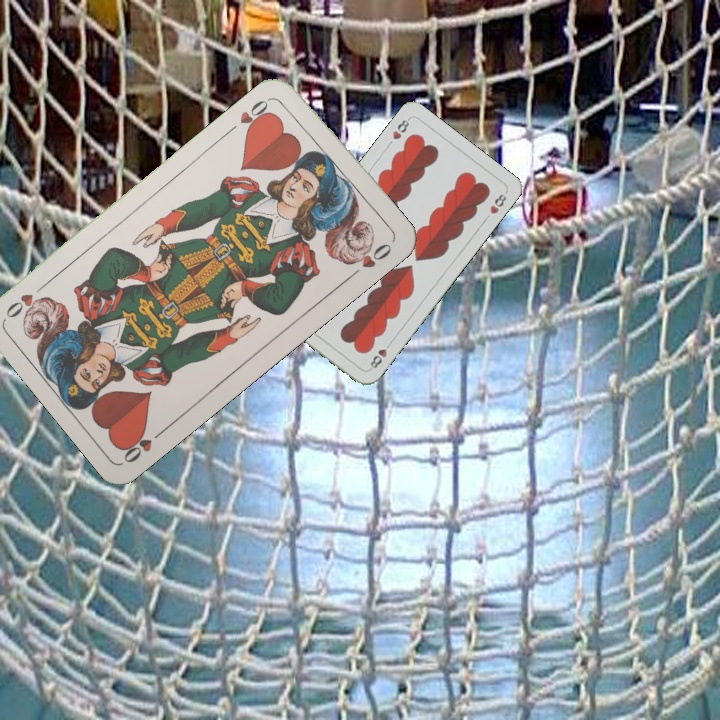H8: (365, 337, 394, 372), (388, 114, 413, 142)
HO: (117, 423, 170, 466), (225, 93, 276, 137)
